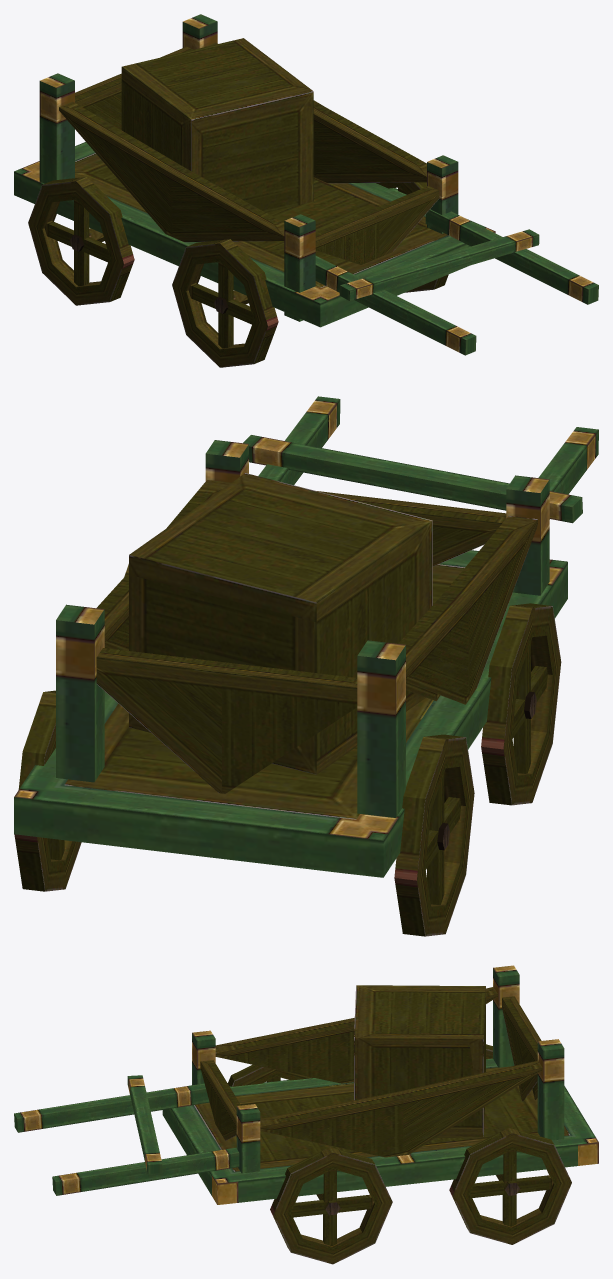
File: Yland1_fz_07 Yland5.FBX
The picture shows the model from 3 angles, top to bottom: view 1: azimuth 30°, elevation 25°; view 2: azimuth 150°, elevation 25°; view 3: azimuth 270°, elevation 25°; orthographic projection. The views are drawn at different scales.
Parts seen in each view (by area): view 1: Yland1_fz_07 Yland5; view 2: Yland1_fz_07 Yland5; view 3: Yland1_fz_07 Yland5.
Boxes of the visible parts, left/top/right/bottom form: Yland1_fz_07 Yland5: left=14, top=14, right=598, bottom=367; Yland1_fz_07 Yland5: left=14, top=396, right=598, bottom=936; Yland1_fz_07 Yland5: left=14, top=965, right=598, bottom=1264.
Size of the model in its own units: 3.5 by 2.21 by 6.21.
